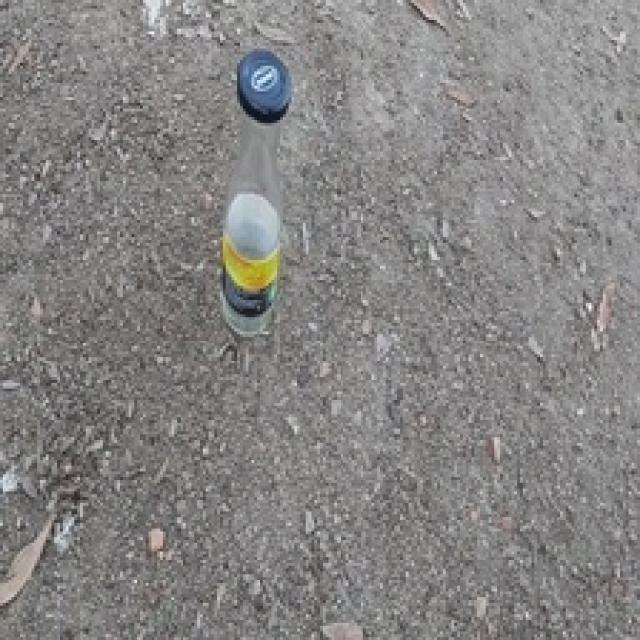Glass: (219, 104, 286, 340)
